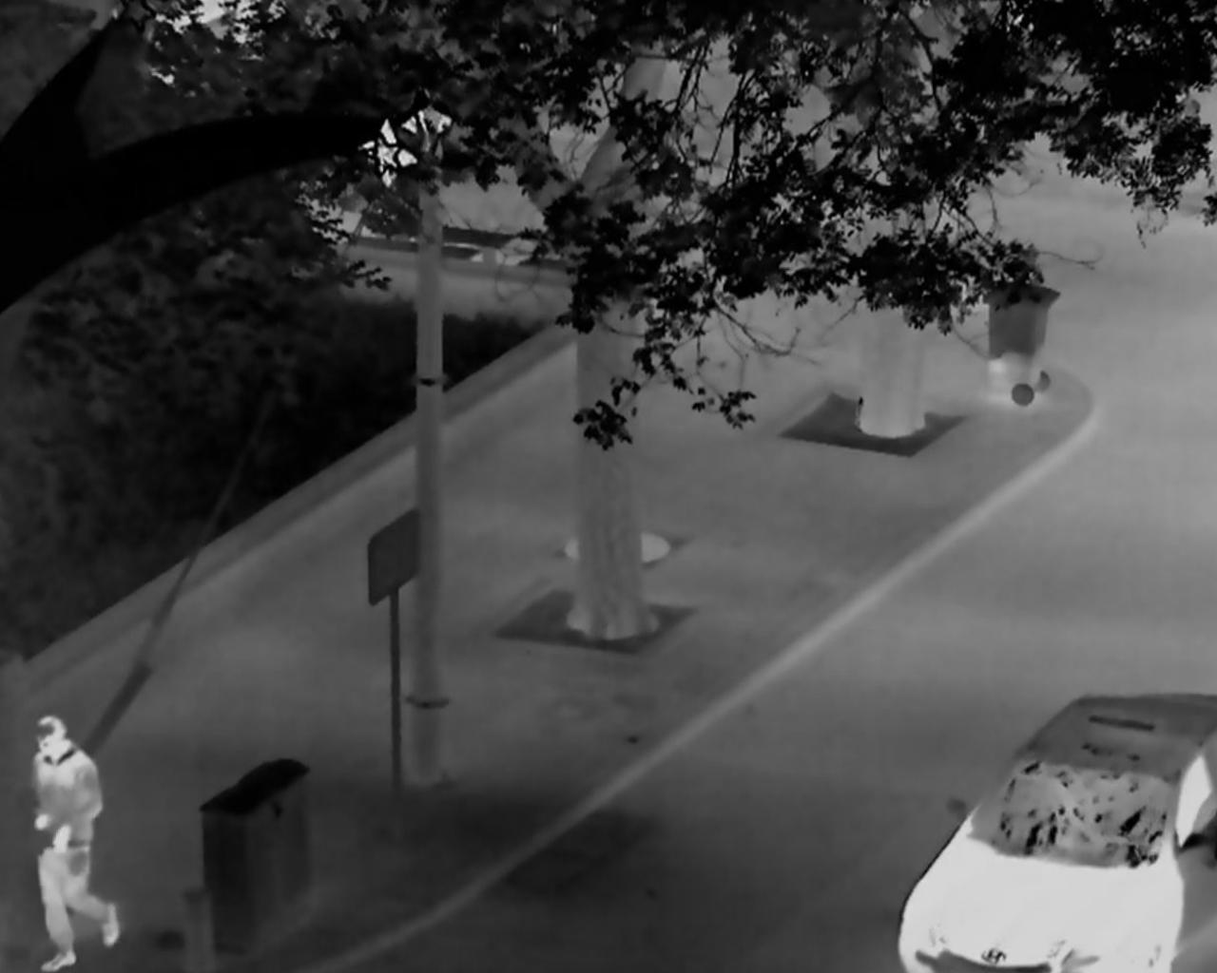person: (28, 714, 122, 973)
